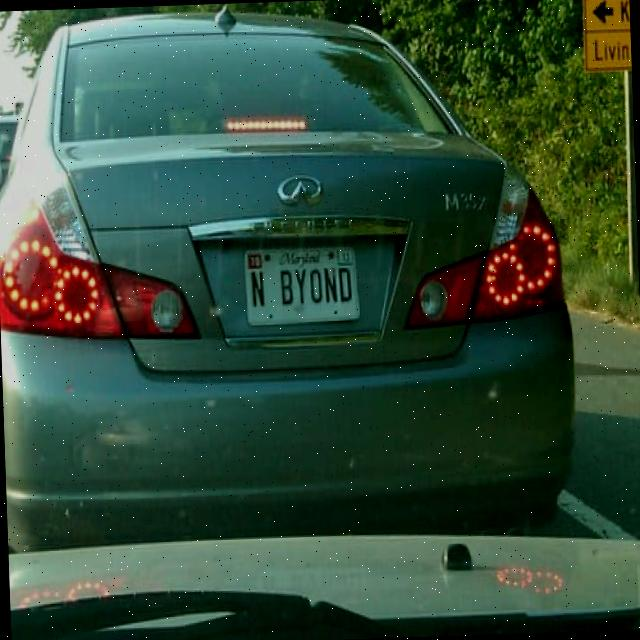Autre: (242, 238, 365, 328)
